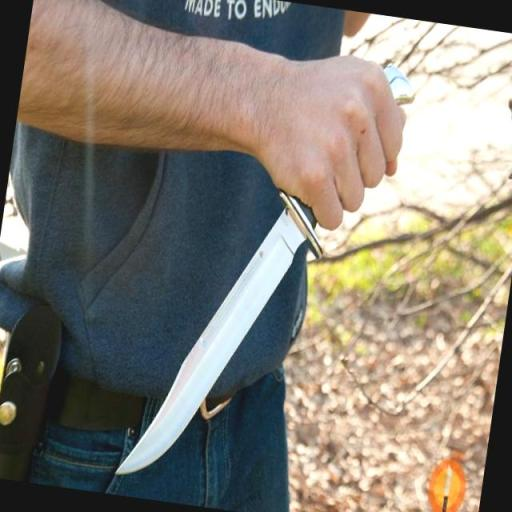knife: (108, 74, 413, 512)
